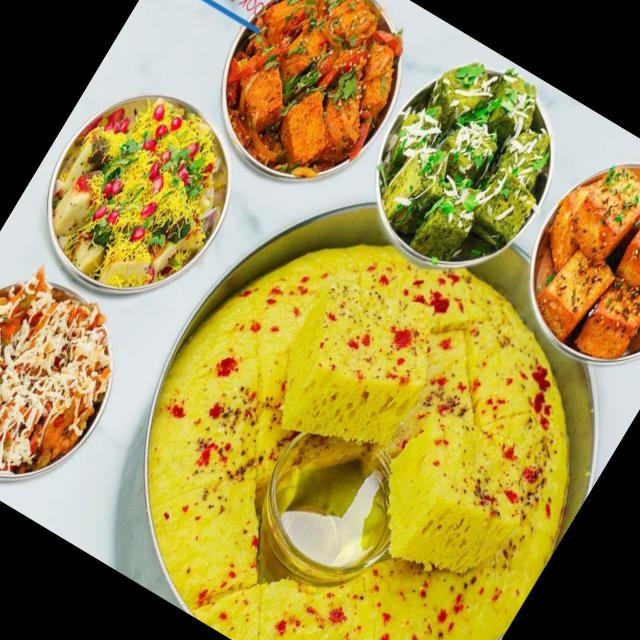dhokla: (107, 194, 612, 640), (342, 45, 576, 295), (31, 76, 252, 306), (198, 0, 423, 191), (0, 257, 149, 497), (500, 141, 640, 389)
